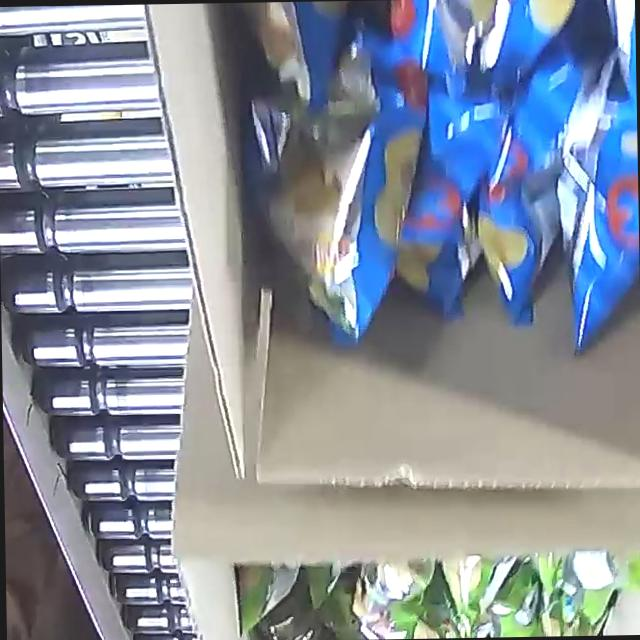paprika: (217, 0, 640, 359)
yogurt: (234, 546, 640, 640)
